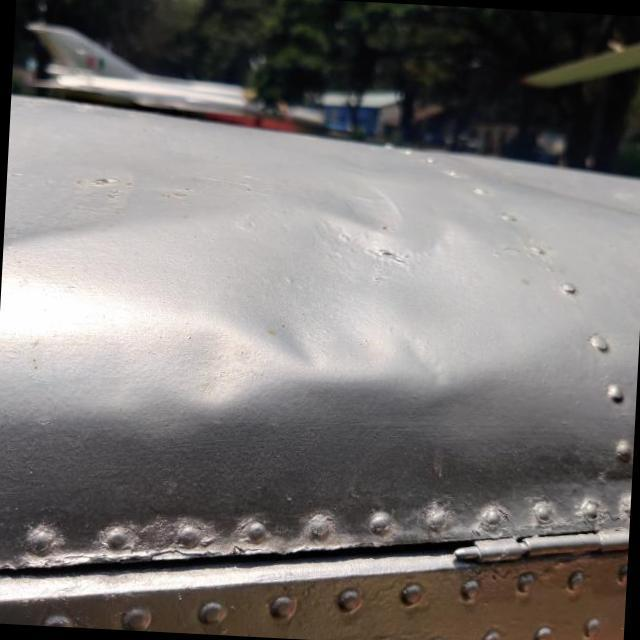Dent: (140, 138, 552, 456)
